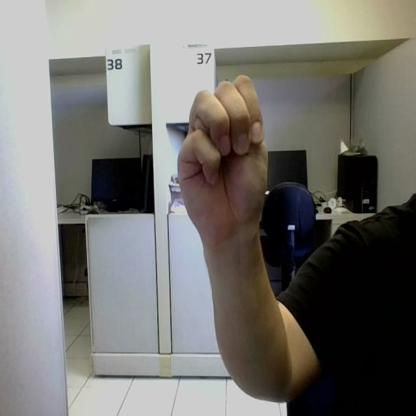M: (178, 75, 268, 238)
